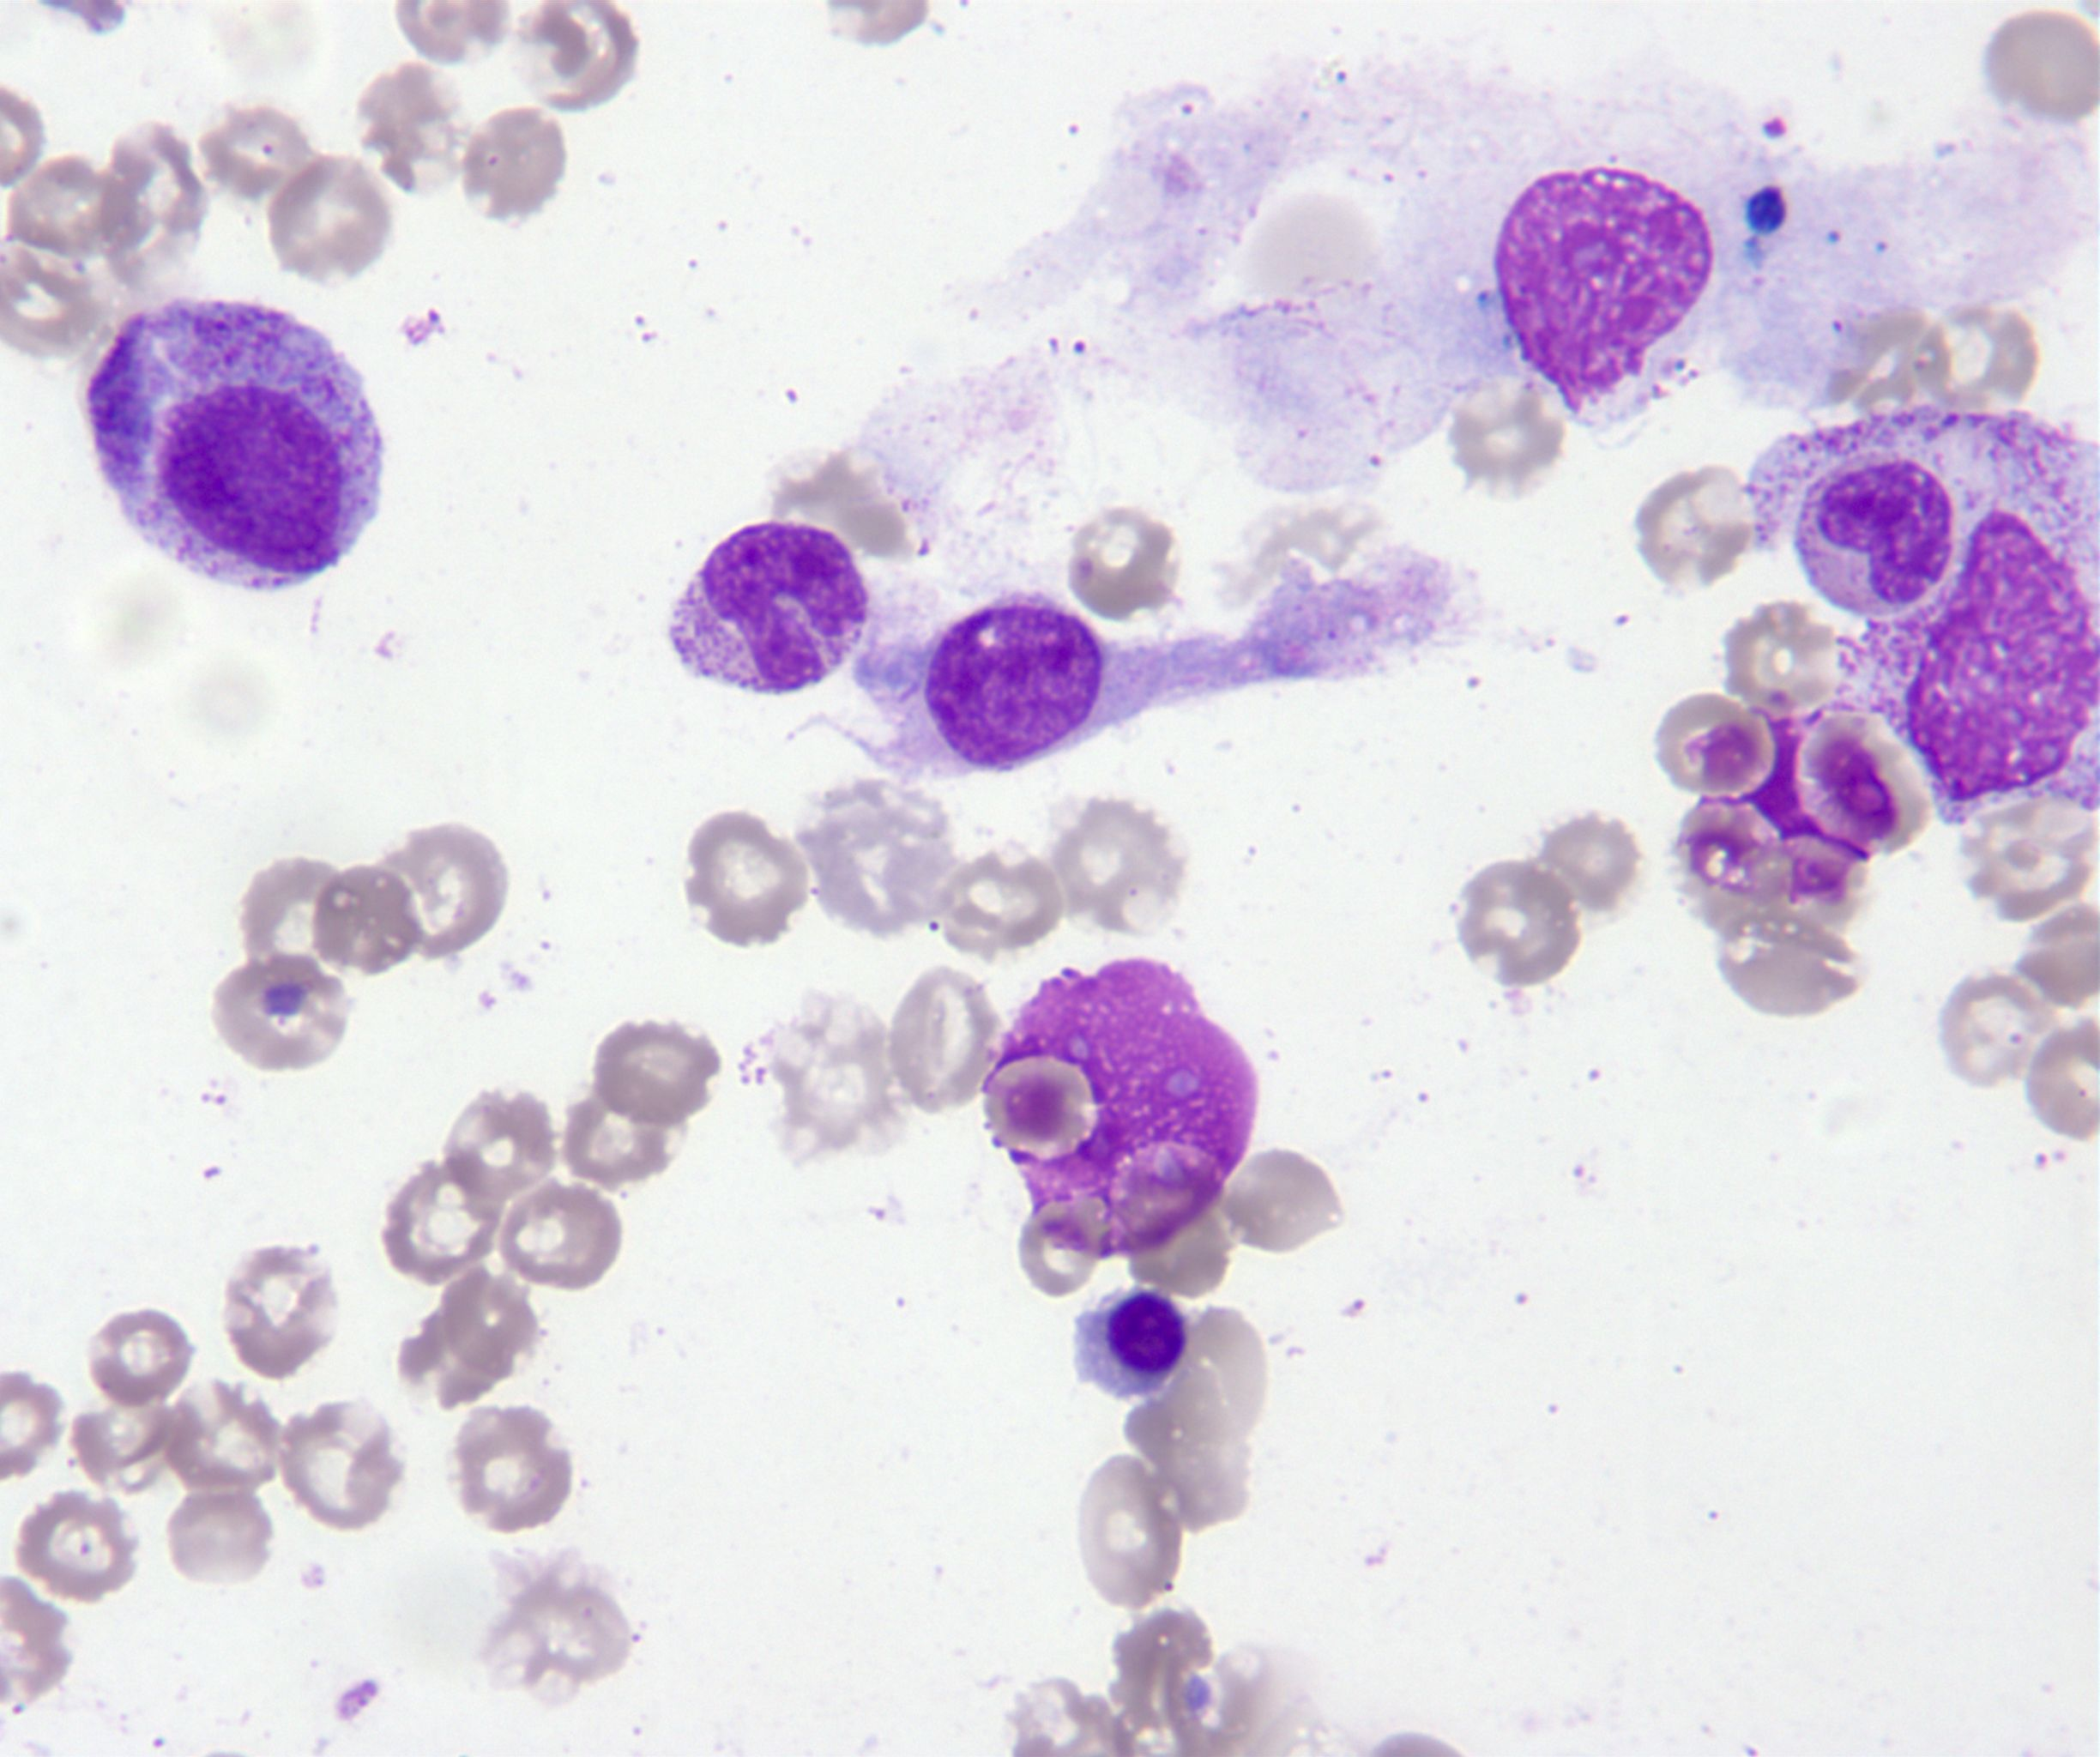2: (77, 295, 387, 597)
24: (1062, 1282, 1191, 1398)
4: (666, 516, 877, 701), (1791, 443, 1960, 623)
x: (1490, 157, 1727, 419), (916, 590, 1118, 778)
